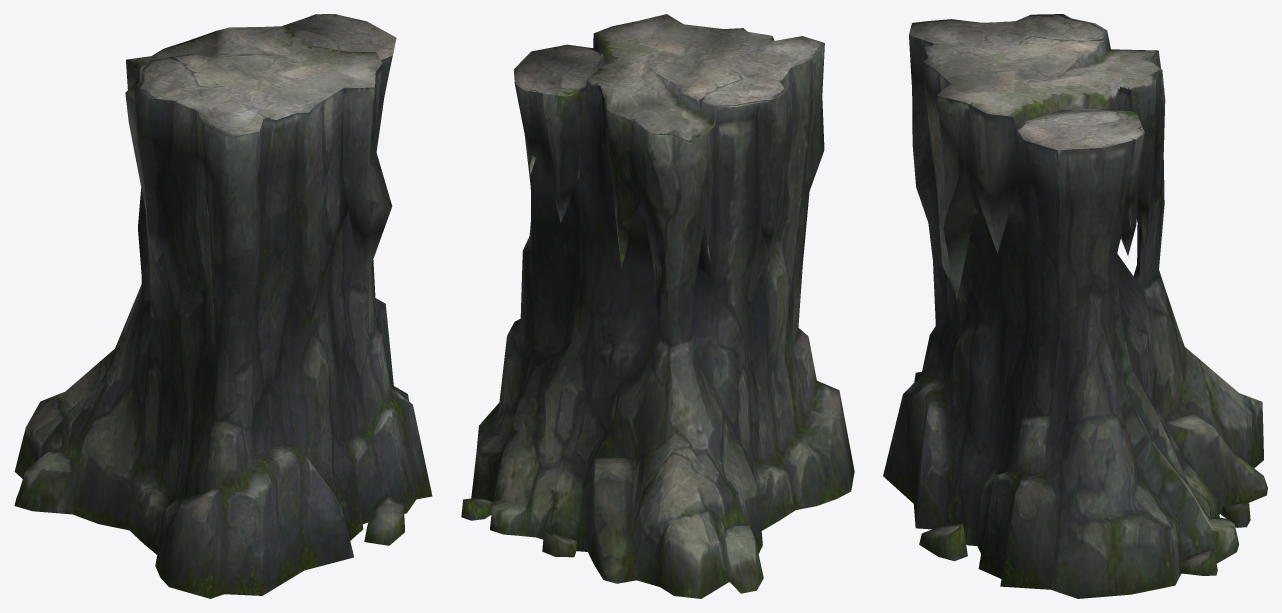
The picture shows the model from 3 angles, left to right: view 1: azimuth 30°, elevation 25°; view 2: azimuth 150°, elevation 25°; view 3: azimuth 270°, elevation 25°; orthographic projection. The views are drawn at different scales.
Parts seen in each view (by area): view 1: A_ST_06; view 2: A_ST_06; view 3: A_ST_06.
Boxes of the visible parts, x1,y1,x2,y2 form: A_ST_06: (14, 14, 432, 598); A_ST_06: (461, 14, 854, 598); A_ST_06: (883, 14, 1267, 598).
Bounding box in the file's own units: 852 × 1090 × 839.
